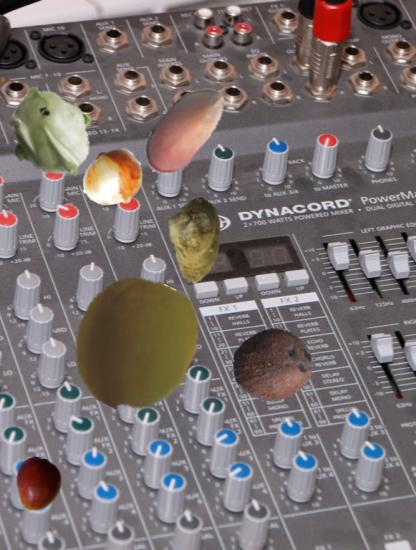Cocos: (231, 323, 315, 407)
Ginger: (152, 198, 238, 284)
Hazelnut: (132, 77, 238, 183)
Kohlrabi: (1, 82, 103, 184)
Mango: (11, 458, 65, 512)
Onion: (81, 147, 145, 211)
Peach: (68, 277, 203, 412)
